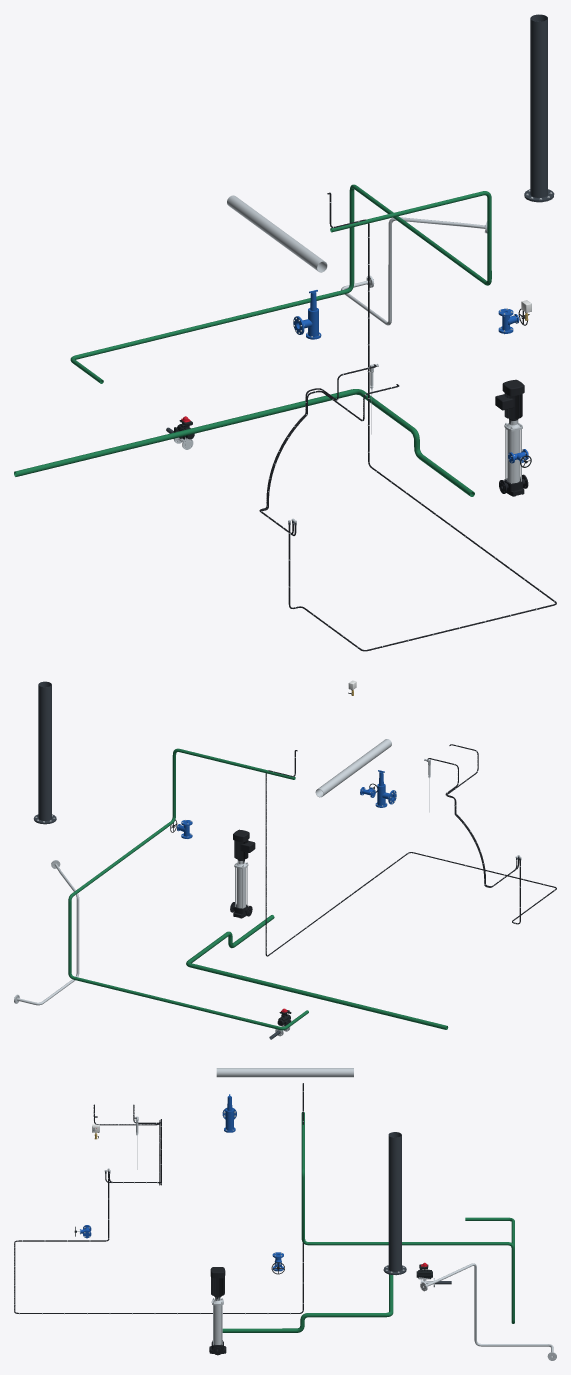
3 views of the same model, one above another, from view 1: azimuth 30°, elevation 25°; view 2: azimuth 150°, elevation 25°; view 3: azimuth 270°, elevation 25° (orthographic). The views are drawn at different scales.
Parts seen in each view (by area): view 1: bdv_vent / dark, suction_common / green, to_economizer / green, mod_eco_drive_cable / black, to_direct / green, trap_gap_to_bdv / steel, steam_delivery / steel, pump_1 CAD solid 15; view 2: bdv_vent / dark, suction_common / green, to_economizer / green, mod_eco_drive_cable / black, to_direct / green, trap_gap_to_bdv / steel, steam_delivery / steel, pump_1 CAD solid 15; view 3: bdv_vent / dark, to_economizer / green, suction_common / green, steam_delivery / steel, mod_eco_drive_cable / black, trap_gap_to_bdv / steel, to_direct / green, pump_1 CAD solid 15.
Part boxes in pixels (x1,y1,x2,y2): bdv_vent / dark: (524,14,554,202); suction_common / green: (14,389,474,496); to_economizer / green: (70,184,480,383); mod_eco_drive_cable / black: (288,192,556,651); to_direct / green: (330,191,491,285); trap_gap_to_bdv / steel: (341,217,487,325); steam_delivery / steel: (227,195,302,255); pump_1 CAD solid 15: (495,379,524,419); bdv_vent / dark: (33,681,56,824); suction_common / green: (186,915,448,1029); to_economizer / green: (68,824,308,1030); mod_eco_drive_cable / black: (265,750,556,956); to_direct / green: (166,748,295,826); trap_gap_to_bdv / steel: (14,860,79,1005); steam_delivery / steel: (315,751,375,797); pump_1 CAD solid 15: (233,829,255,860); bdv_vent / dark: (383,1132,406,1275); to_economizer / green: (318,1217,514,1323); suction_common / green: (222,1274,393,1332); steam_delivery / steel: (249,1068,353,1077); mod_eco_drive_cable / black: (14,1083,303,1313); trap_gap_to_bdv / steel: (420,1263,556,1360); to_direct / green: (301,1112,318,1245); pump_1 CAD solid 15: (210,1267,225,1296).
Size of the model in its own units: 5.89 by 3.78 by 6.74.
